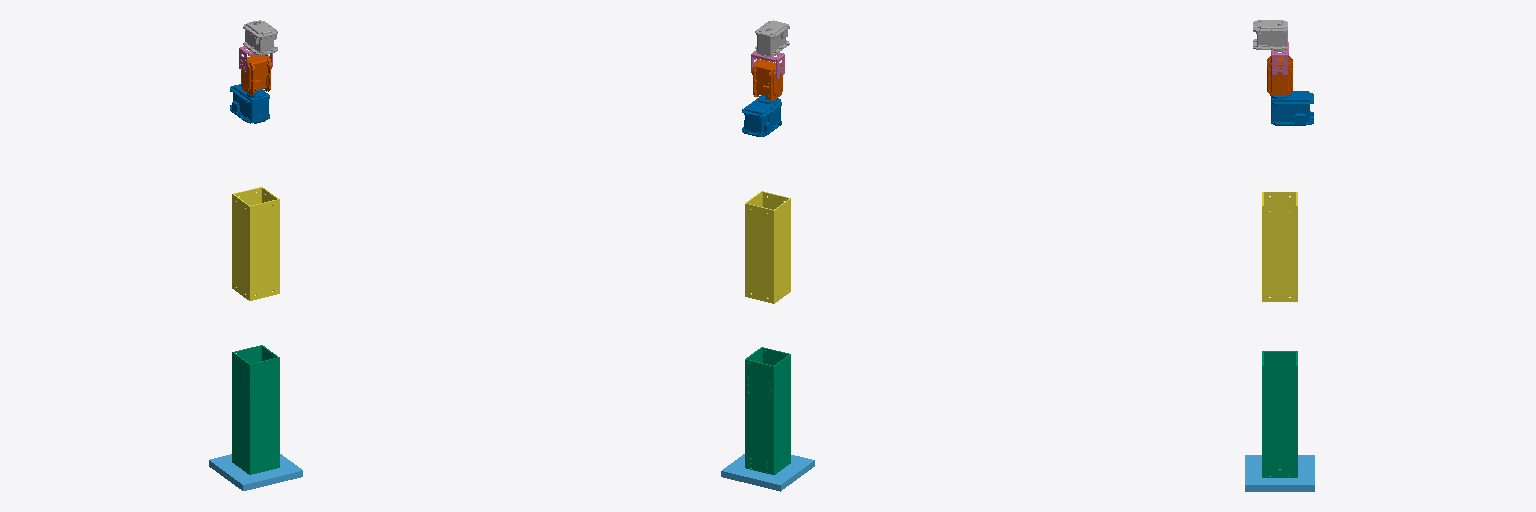
The robot description file, URDF, robot "proarm":

<robot name="proarm">

  <link name="world"/>
    <joint name="fixed" type="fixed">
    <parent link="world"/>
    <child link="base_link"/>
    <origin  xyz="0 0.0 0.005"  rpy="0.0 0 0" />
  </joint>

  <link name="base_link">
  <inertial>
      <origin  xyz="0.0 0.0 0.0"  rpy="0 0 0" />
      <mass  value="0.01" />
      <inertia ixx="0.016667333" ixy="0.0" ixz="0.00"  iyy="0.016667333"  iyz="0.0" izz="0.016667333" />
    </inertial>
    <visual>
      <origin rpy="0 0 0" xyz="0 0 0.0"/>
      <geometry>
        <box size="0.1 0.1 0.01"/>
      </geometry>
      <material name="clear_gray"/>
    </visual>
    <collision>
      <origin rpy="0 0 0" xyz="0 0 0.0"/>
      <geometry>
        <box size="0.1 0.1 .01"/>
      </geometry>
    </collision>
  </link>
  
 

   <joint name="joint1" type="revolute">
    <parent link="base_link"/>
    <child link="link_pilar1"/>
     <origin  xyz="0.0 0.0 0.18"  rpy="0.0 3.141592654 0.0" />
    <axis  xyz="0 0 1" />
    <limit  lower="-3.15159" upper="3.14159" effort="2.0"  velocity="2.57" />
  </joint>

  
 <link  name="link_pilar1">
    <inertial>
     <origin  xyz="0.025 0.025 0.0"  rpy="0 0 0" />
      <mass  value="0.1" />
      <inertia ixx="0.0001" ixy="0.0" ixz="0.000"  iyy="0.0001"  iyz="0.0" izz="0.0001" />
    </inertial>
    <visual>
      <origin  xyz="0.025 0.025 0.0"  rpy="0 0 0" />
      <geometry>     
        <mesh filename="package://arm/meshes/dynamixel_pro/50x50x180.stl" scale="0.001 0.001 0.001"/>
      </geometry>   
       <material name="white"/>
    </visual>
    <collision>
    <origin  xyz="0.025 0.025 0.0"  rpy="0 0 0" />
      <geometry>
        <mesh filename="package://arm/meshes/dynamixel_pro/50x50x180.stl" scale="0.001 0.001 0.001" />
      </geometry>
    </collision>
  </link>

   <joint name="joint2" type="revolute">
    <parent link="link_pilar1"/>
    <child link="link_pilar2"/>
     <origin  xyz="-0.0 -0.0 -0.035"  rpy="3.14159 0.0 3.14159" />
     <axis  xyz="0 1 0" />
     <limit  lower="-2.32" upper="2.32" effort="10"  velocity="4.57" />
  </joint>



 <link  name="link_pilar2">
    <inertial>
     <origin  xyz="0.025 0.025 0.066"  rpy="0.0 0.0 0.0" />
      <mass  value="0.08" />
      <inertia ixx="0.0001" ixy="0.0" ixz="0.000"  iyy="0.0001"  iyz="0.0" izz="0.0001" />
    </inertial>
    <visual>
      <origin  xyz=" 0.025 0.025 0.066"  rpy="0.0 0.0 0.0" />
      <geometry>
        <mesh filename="package://arm/meshes/dynamixel_pro/50x50x150.stl" scale="0.001 0.001 0.001"/>
      </geometry>
       <material name="black"/>
    </visual>
    <collision>
    <origin  xyz=" 0.025 0.025 0.066"  rpy="0.0 0.0 0.0" />
      <geometry>
        <mesh filename="package://arm/meshes/dynamixel_pro/50x50x150.stl" scale="0.001 0.001 0.001" />
      </geometry>
    </collision>
  </link>





   <joint name="joint3" type="revolute">
    <parent link="link_pilar2"/>
    <child link="link_motor_mx642"/>
     <origin  xyz="0.0 0.0 0.272"  rpy="0.0 0.0  3.14159" />
     <axis  xyz="0 1 0" />
    <limit  lower="-2.32" upper="2.32" effort="10"  velocity="4.57" />
  </joint> 



 <link  name="link_motor_mx642">
    <inertial>
     <origin  xyz="0 0 0.086"  rpy=" 0 0 0"/>
      <mass  value="0.07" />
      <inertia ixx="0.0001" ixy="0.0" ixz="0.000"  iyy="0.0001"  iyz="0.0" izz="0.0001" />
    </inertial>
    <visual>
      <origin  xyz="0 0 0.086"  rpy=" 0 0 0" />
      <geometry>
        <mesh filename="package://arm/meshes/dynamixel_pro/mx64.stl" scale="0.001 0.001 0.001"/>
      </geometry>
       <material name="black"/>
    </visual>
    <collision>
    <origin  xyz="0 0 0.086"  rpy=" 0 0 0" />
      <geometry>
        <mesh filename="package://arm/meshes/dynamixel_pro/mx64.stl" scale="0.001 0.001 0.001" />
      </geometry>
    </collision>
  </link>

   <joint name="joint4" type="continuous">
    <parent link="link_motor_mx642"/>
    <child link="link_motor_mx281"/>
     <origin  xyz="0.00 0.0 0.151"  rpy="1.570796327 0.0 -1.570796327 " />
     <axis  xyz="0 1 0" />
    <limit  lower="-3.14159" upper="3.1459" effort="10"  velocity="4.57" />
  </joint>

 <link  name="link_motor_mx281">
    <inertial>
     <origin  xyz="0 0 0.0"  rpy="0 0 0"/>
      <mass  value="0.01" />
      <inertia ixx="0.0001" ixy="0.0" ixz="0.000"  iyy="0.0001"  iyz="0.0" izz="0.0001" />
    </inertial>
    <visual>
      <origin  xyz="0 0 0.0"  rpy="0 0 0" />
      <geometry>
        <mesh filename="package://arm/meshes/dynamixel_pro/mx28.stl" scale="0.001 0.001 0.001"/>
      </geometry>
       <material name="black"/>
    </visual>
    <collision>
    <origin  xyz="0 0 0.0"  rpy="0 0 0" />
      <geometry>
        <mesh filename="package://arm/meshes/dynamixel_pro/mx28.stl" scale="0.001 0.001 0.001" />
      </geometry>
    </collision>
  </link>

 <joint name="joint5" type="revolute">
    <parent link="link_motor_mx281"/>
    <child link="link_bracket_f7l"/>
     <origin  xyz="0.0 0.0 0.0"  rpy="0.0 -1.570796327 0.0" />
     <axis  xyz="1 0 0" />
    <limit  lower="-1.825" upper="1.825" effort="10.0"  velocity="3.57" />
  </joint>

 <link  name="link_bracket_f7l">
    <inertial>
     <origin  xyz="0.0 0.0 0.0"  rpy="0.0 0.0 0.0" />
      <mass  value="0.01" />
      <inertia ixx="0.0001" ixy="0.0" ixz="0.000"  iyy="0.0001"  iyz="0.0" izz="0.0001" />
    </inertial>
    <visual>
      <origin  xyz="0.0 0.0 0.0"  rpy="0 0 0" />
      <geometry>
        <mesh filename="package://arm/meshes/dynamixel_pro/fr07h.stl" scale="0.001 0.001 0.001"/>
      </geometry>
       <material name="black"/>
    </visual>
    <collision>
    <origin  xyz="-0.0 -0.0 0.0"  rpy="0 0 0" />
      <geometry>
        <mesh filename="package://arm/meshes/dynamixel_pro/fr07h.stl" scale="0.001 0.001 0.001" />
      </geometry>
    </collision>
  </link>

   <joint name="joint6" type="revolute">
    <parent link="link_bracket_f7l"/>
    <child link="link_motor_mx282"/>
     <origin  xyz="0.0 0.05 0.0"  rpy="1.570796327 3.1415926 0" />
     <axis  xyz="0 0 1" />
    <limit  lower="-3.14159" upper="3.1459" effort="10"  velocity="5.57" />
  </joint>

 <link  name="link_motor_mx282">
    <inertial>
     <origin  xyz="0.00 0.0 0.0"  rpy="0 0 0" />
      <mass  value="0.01" />
      <inertia ixx="0.0001" ixy="0.0" ixz="0.000"  iyy="0.0001"  iyz="0.0" izz="0.0001" />
    </inertial>
    <visual>
      <origin  xyz="0.00 0.0 0.0"  rpy="0 0 0" />
      <geometry>
        <mesh filename="package://arm/meshes/dynamixel_pro/mx28.stl" scale="0.001 0.001 0.001"/>
      </geometry>
       <material name="black"/>
    </visual>
    <collision>
    <origin  xyz="0.00 0.0 0.0"  rpy="0 0 0" />
      <geometry>
        <mesh filename="package://arm/meshes/dynamixel_pro/mx28.stl" scale="0.001 0.001 0.001" />
      </geometry>
    </collision>
  </link>
 <!-- 
  <gazebo reference="base_link">
		<gravity>true</gravity>
		 <self_collide>true</self_collide>
		<material value="Gazebo/Black" />
	    </gazebo>
 <gazebo reference="link_pilar1">
		<gravity>true</gravity>
		 <self_collide>true</self_collide>
		<material value="Gazebo/Black" />
	    </gazebo>

 <gazebo reference="link_pilar2">
		<gravity>true</gravity>
		 <self_collide>true</self_collide>
		<material value="Gazebo/Black" />
	    </gazebo>
 <gazebo reference="link_motor_mx642">
		<gravity>true</gravity>
		 <self_collide>true</self_collide>
		<material value="Gazebo/Black" />
	    </gazebo>
 <gazebo reference="link_motor_mx281">
		<gravity>true</gravity>
		 <self_collide>true</self_collide>
		<material value="Gazebo/Black" />
	    </gazebo>
 <gazebo reference="link_bracket_f7l">
		<gravity>true</gravity>
		 <self_collide>true</self_collide>
		<material value="Gazebo/Black" />
	    </gazebo>
 <gazebo reference="link_motor_mx282">
		<gravity>true</gravity>
		 <self_collide>true</self_collide>
		<material value="Gazebo/Black" />
	    </gazebo>-->
</robot>

--- Render facts (derived) ---
Views: 3 orthographic renders of the robot side by side, from view 1: azimuth 30°, elevation 25°; view 2: azimuth 150°, elevation 25°; view 3: azimuth 270°, elevation 25°.
Model proarm with 8 links and 7 joints (5 revolute, 1 continuous, 1 fixed), rooted at world, posed all joints at 0.
Links seen in each view (by area): view 1: link_pilar1, link_pilar2, base_link, link_motor_mx642, link_motor_mx281, link_motor_mx282; view 2: link_pilar1, link_pilar2, base_link, link_motor_mx642, link_motor_mx281, link_motor_mx282; view 3: link_pilar1, link_pilar2, base_link, link_motor_mx642, link_motor_mx282, link_motor_mx281.
Boxes of the visible links, <box> form: link_pilar1: <box>232,345,279,474</box>; link_pilar2: <box>232,187,279,300</box>; base_link: <box>209,454,302,490</box>; link_motor_mx642: <box>230,84,269,123</box>; link_motor_mx281: <box>241,55,271,95</box>; link_motor_mx282: <box>243,20,277,55</box>; link_pilar1: <box>745,347,790,474</box>; link_pilar2: <box>745,191,790,303</box>; base_link: <box>721,454,814,491</box>; link_motor_mx642: <box>742,95,781,136</box>; link_motor_mx281: <box>752,60,782,100</box>; link_motor_mx282: <box>755,20,789,56</box>; link_pilar1: <box>1262,351,1297,477</box>; link_pilar2: <box>1262,192,1297,301</box>; base_link: <box>1245,455,1314,491</box>; link_motor_mx642: <box>1270,91,1313,125</box>; link_motor_mx282: <box>1253,20,1287,50</box>; link_motor_mx281: <box>1267,56,1292,95</box>.
Bounding box of the posed robot: 0.1 × 0.1 × 0.7122 m (x, y, z).
Meshes: 5 distinct files referenced, 6 mesh visuals loaded (5 binary STL).
